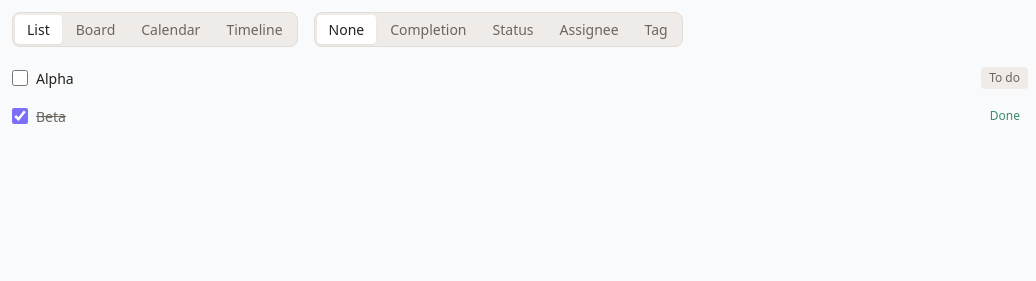
Test: ViewContainer › group-by control shows only in list view
Expected: the element with test id "groupby-control" is shown, top-left (314, 12), bottom-right (683, 47)
// Switch to board → hidden
Click the button "Board" at (95, 30), box top-left (64, 15), bottom-right (127, 44)
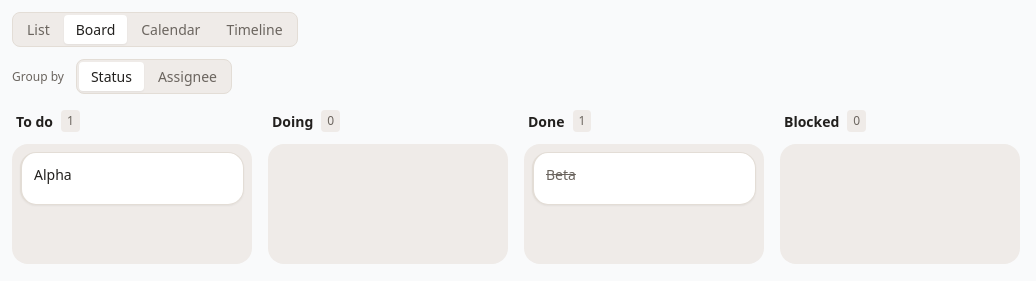
Expected: the element with test id "groupby-control" is gone
